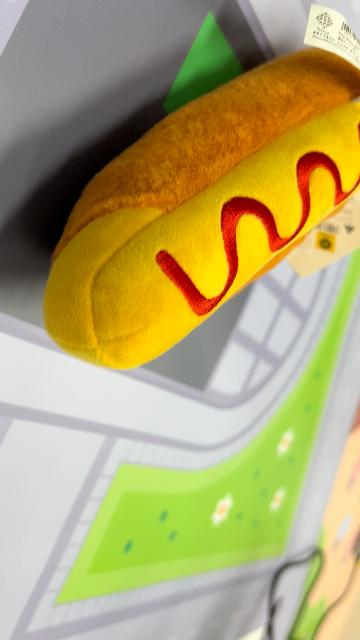hotdog: (42, 45, 358, 372)
